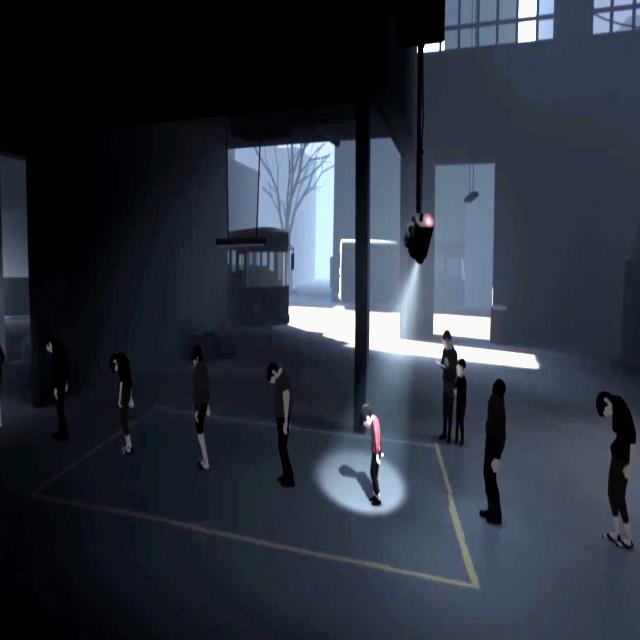boy: (360, 404, 382, 507)
human: (440, 329, 460, 443), (454, 360, 468, 446)
zombie: (595, 389, 636, 551), (476, 376, 508, 526), (266, 363, 292, 485), (190, 343, 211, 471), (110, 352, 136, 453), (46, 336, 69, 442), (0, 330, 5, 428)
